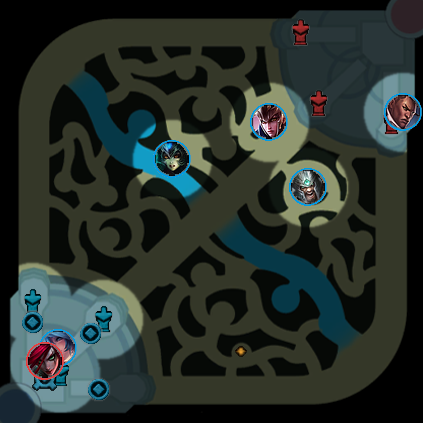Katarina: (26, 342, 64, 380)
Lucian: (384, 93, 422, 131)
Nami: (153, 140, 191, 178)
Quinn: (250, 103, 288, 141)
Sona: (39, 329, 77, 367)
Tryndamere: (289, 168, 327, 206)
